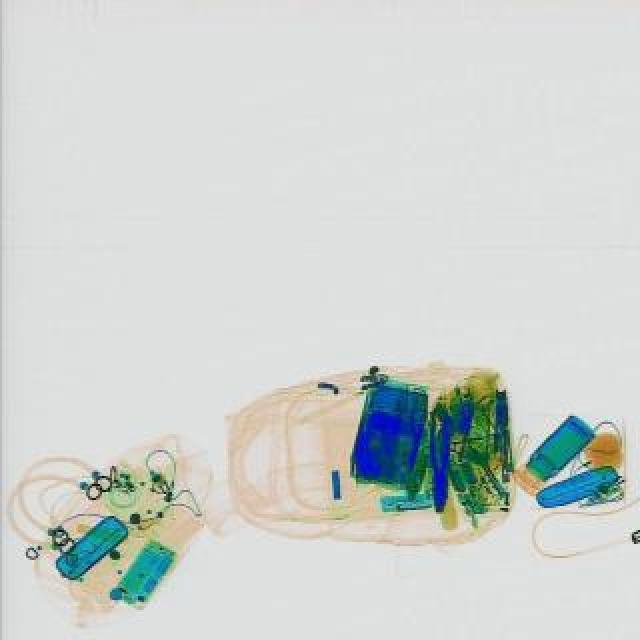wrench: (426, 412, 448, 514)
